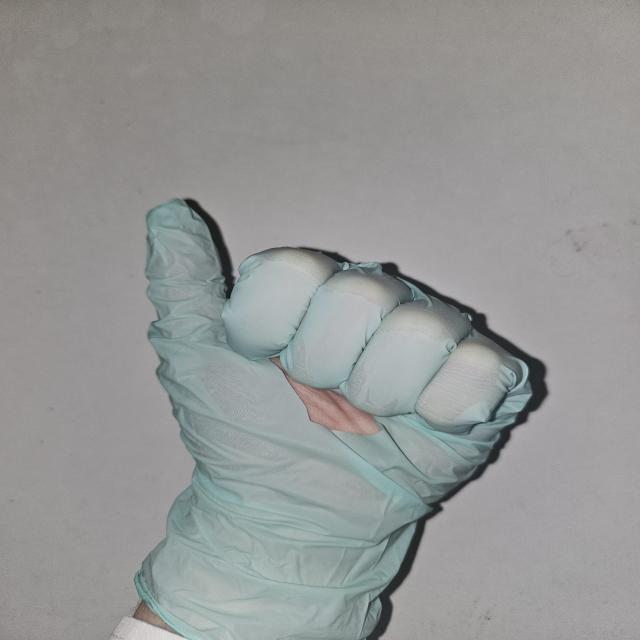gloves_damaged: (131, 195, 540, 640)
